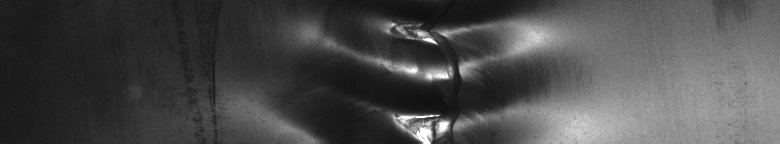ke: (304, 16, 516, 136)
